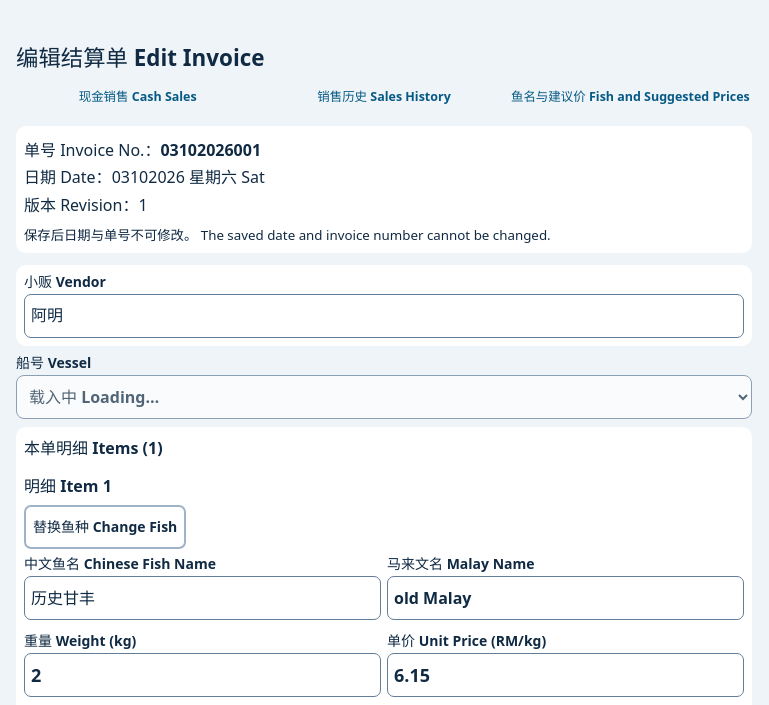
Test: Retail 30-day editing › edits the same invoice with unchanged half-up calculation and remark, without writing Master
Replace the text in the field labelled "小贩 Vendor" with "新小贩": [384, 316] box [24,294,744,338]
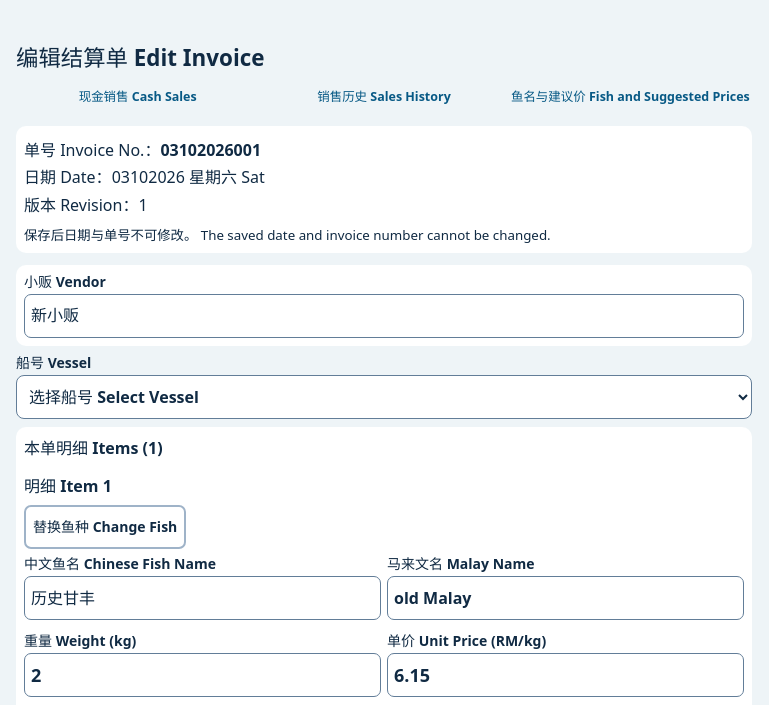
Replace the text in the field named "中文鱼名 Chinese Fish Name 1" with "修正名": [202, 598] box [24,576,381,620]
Replace the text in the field named "马来文名 Malay Name 1" with "corrected": [566, 598] box [387,576,744,620]
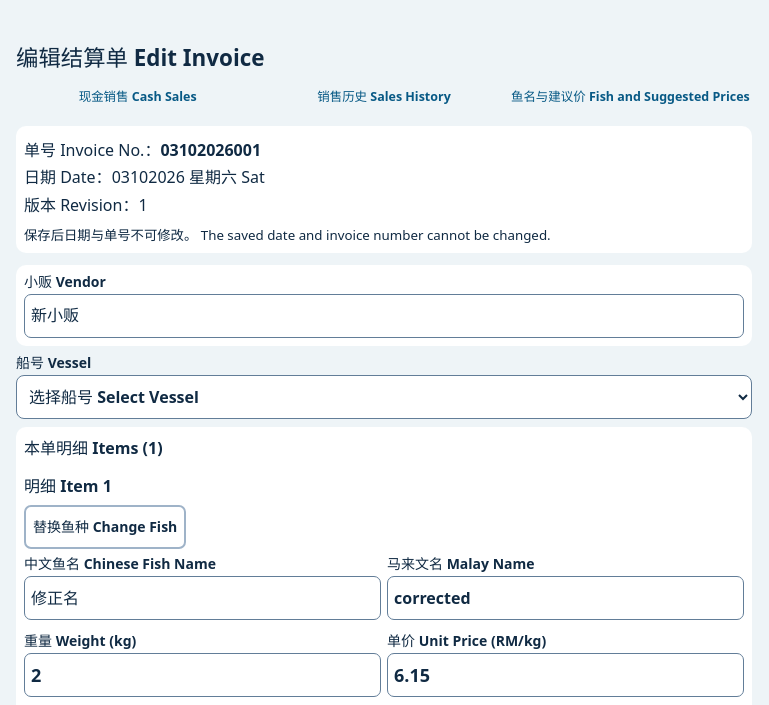
Replace the text in the field named "重量 Weight (kg) 1" with "12.5": [202, 675] box [24,653,381,697]
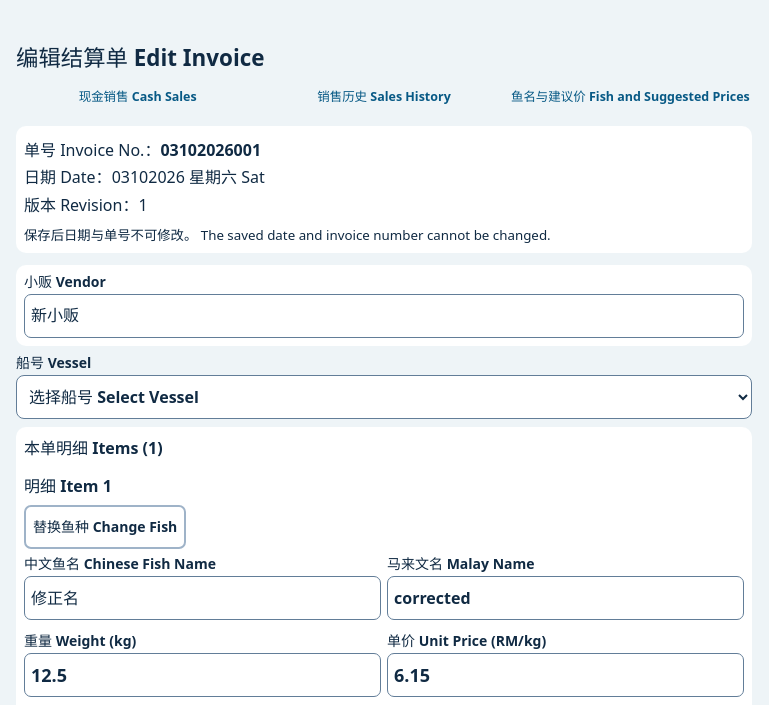
Replace the text in the field named "单价 Unit Price (RM/kg) 1" with "7.05": [566, 675] box [387,653,744,697]
(page scrolled)
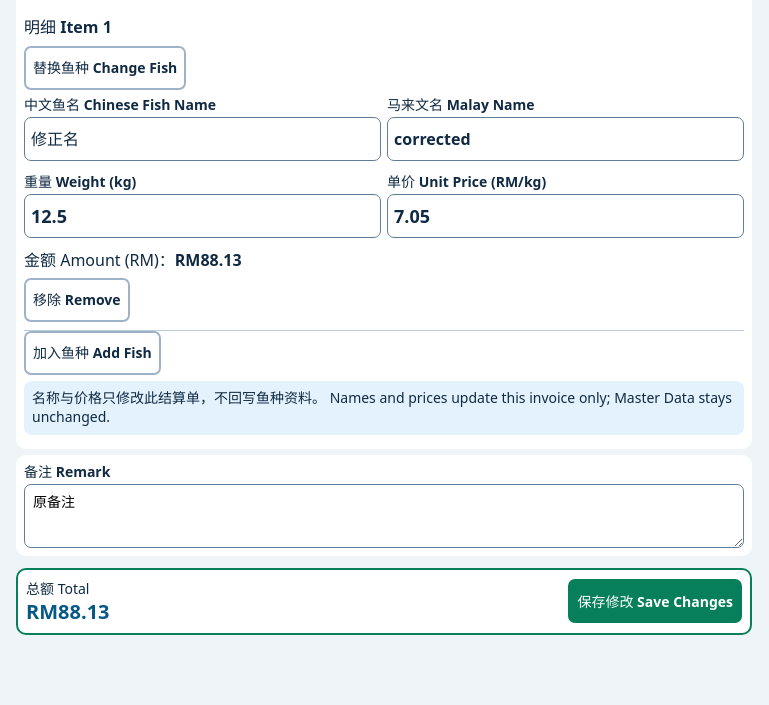
Replace the text in the text box labelled "备注 Remark" with "已核对": [384, 516] box [24,484,744,548]
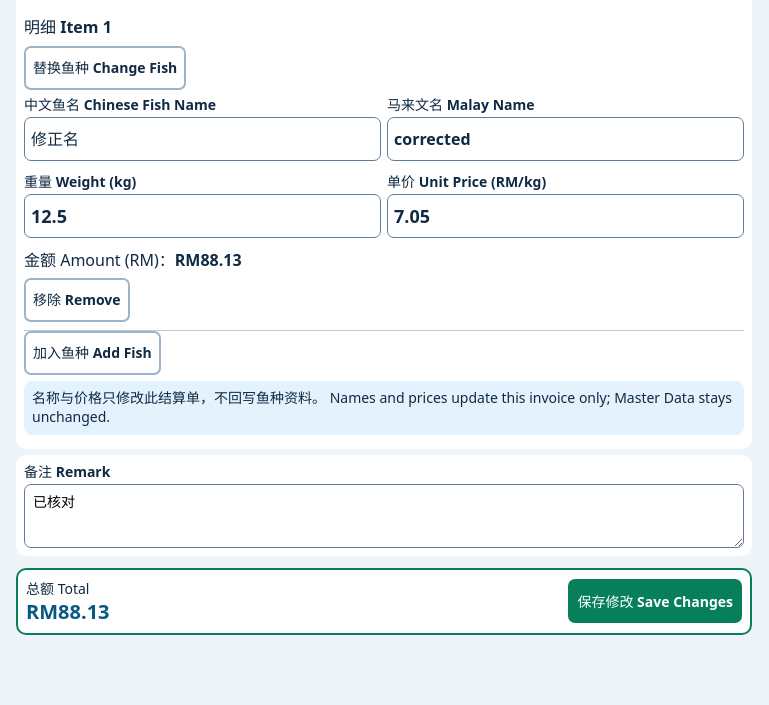
Click the button "保存修改 Save Changes": [655, 602] box [568,580,742,624]
(page scrolled)
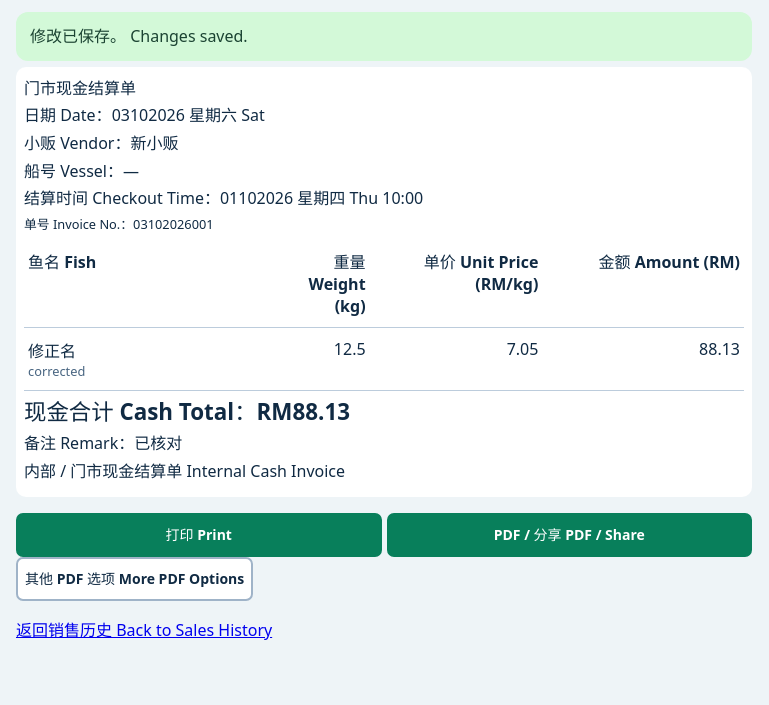
Expected: the text "修改已保存。 Changes saved." is shown, [16,12,752,62]
